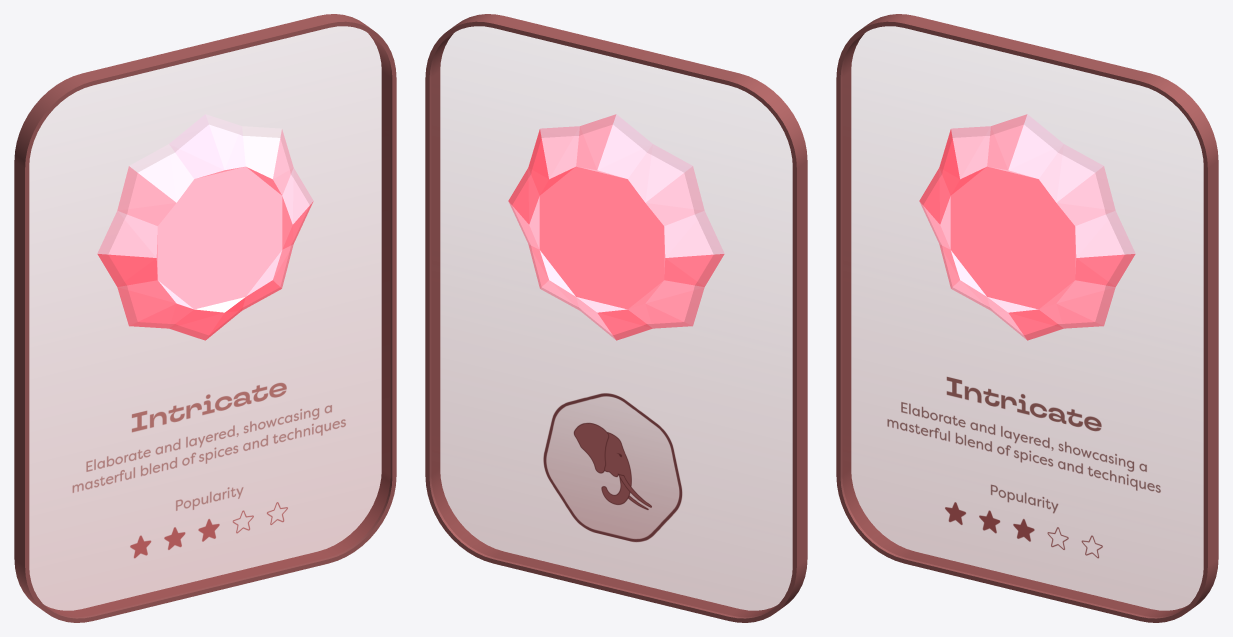
File: intricate.glb
The picture shows the model from 3 angles, left to right: view 1: azimuth 30°, elevation 25°; view 2: azimuth 150°, elevation 25°; view 3: azimuth 330°, elevation 25°; orthographic projection.
Parts seen in each view (by area): view 1: Bhai_Card.tex.020, Jewel_02_Circle.001, Bhai_Card.out.020; view 2: Bhai_Card.tex.020, Jewel_02_Circle.001, Bhai_Card.out.020; view 3: Bhai_Card.tex.020, Jewel_02_Circle.001, Bhai_Card.out.020.
Part boxes in pixels (<box>): Bhai_Card.tex.020: <box>29,146,390,616</box>; Jewel_02_Circle.001: <box>97,114,313,340</box>; Bhai_Card.out.020: <box>14,14,396,622</box>; Bhai_Card.tex.020: <box>431,146,792,616</box>; Jewel_02_Circle.001: <box>508,114,724,340</box>; Bhai_Card.out.020: <box>425,14,807,622</box>; Bhai_Card.tex.020: <box>842,146,1203,616</box>; Jewel_02_Circle.001: <box>919,114,1135,340</box>; Bhai_Card.out.020: <box>836,14,1218,622</box>.
Size of the model in its own units: 1.81 by 2.51 by 0.3243.
4 materials, 2 textured.
